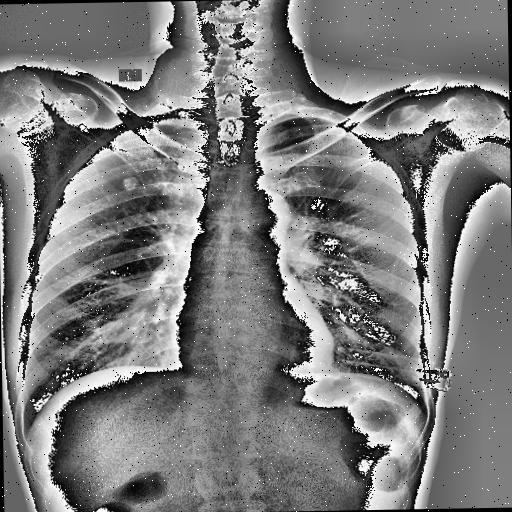2- Calcification: (122, 175, 139, 192)
8- Nodule-Mass: (120, 174, 140, 191), (122, 175, 139, 192), (120, 176, 137, 190)
